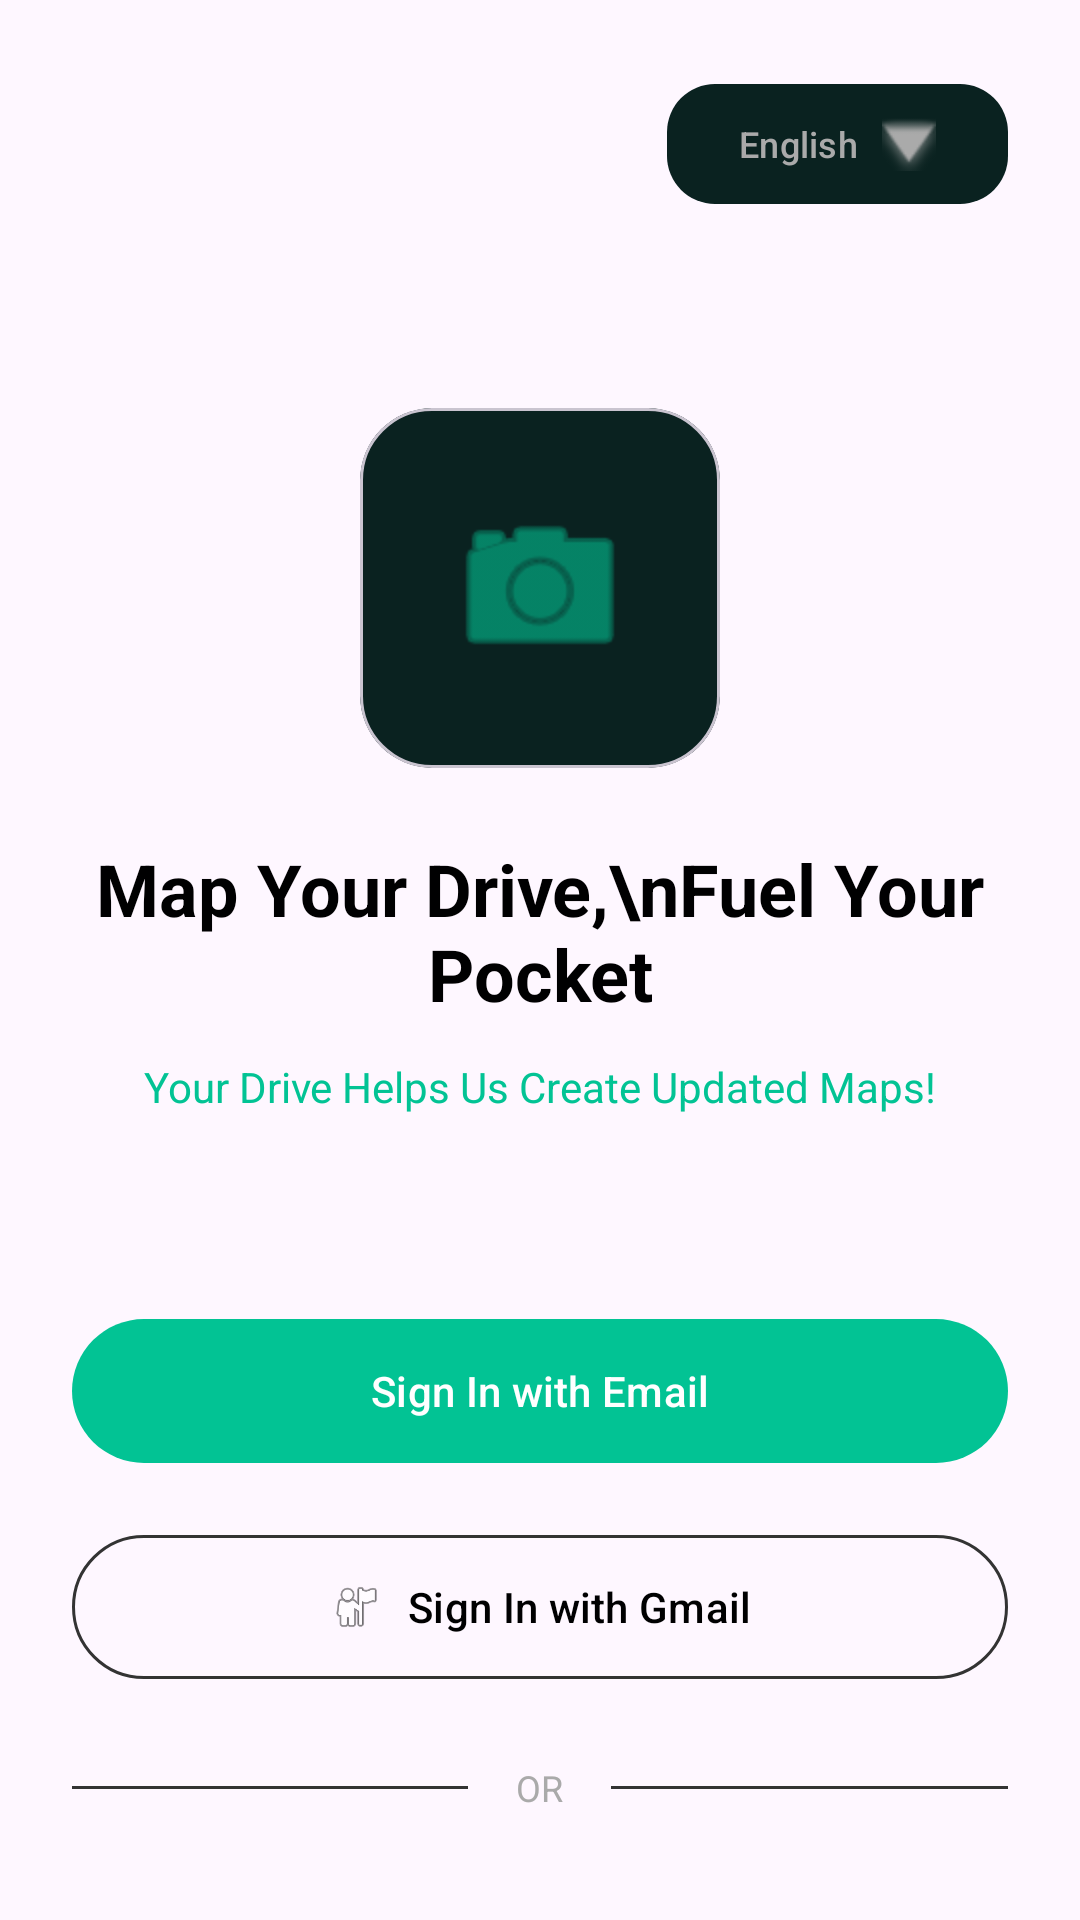

Where icons sit on this 1080 x 1920 app screen, as rect(x1, y1, x2, y2):
camera: rect(466, 526, 614, 644)
